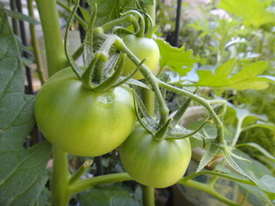stems: (90, 40, 114, 82), (150, 85, 170, 131), (99, 14, 142, 35)
tomato: (33, 66, 139, 157), (118, 115, 193, 188), (107, 34, 162, 80)
